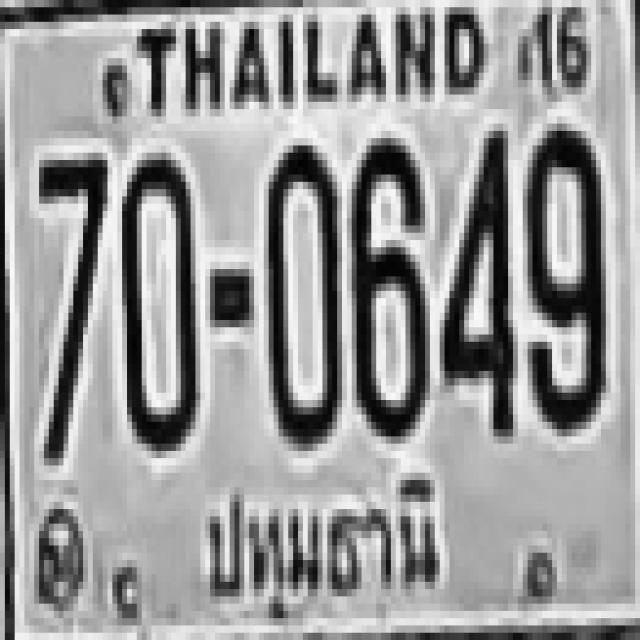0: (122, 149, 196, 447), (264, 142, 337, 440)
4: (440, 124, 513, 429)
6: (347, 131, 425, 436)
7: (37, 153, 105, 451), (37, 153, 105, 414), (37, 153, 105, 356)
9: (523, 120, 601, 425)
PathumThani: (198, 478, 450, 609)
